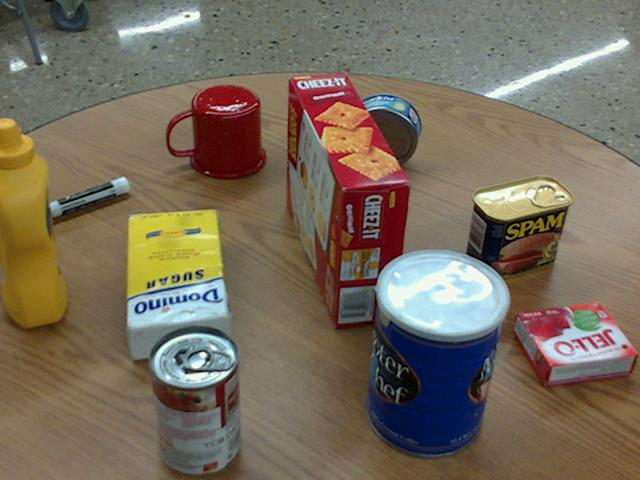cracker_box: (288, 74, 410, 326)
gelatin_box: (515, 302, 636, 385)
large_marker: (23, 176, 129, 224)
master_chef_can: (366, 249, 509, 457)
mug: (167, 85, 265, 178)
mustard_bottle: (0, 118, 66, 325)
potted_meat_can: (465, 176, 572, 281)
sugar_box: (125, 208, 228, 358)
tomato_soup_can: (146, 325, 238, 474)
tuna_fish_can: (346, 94, 419, 167)
